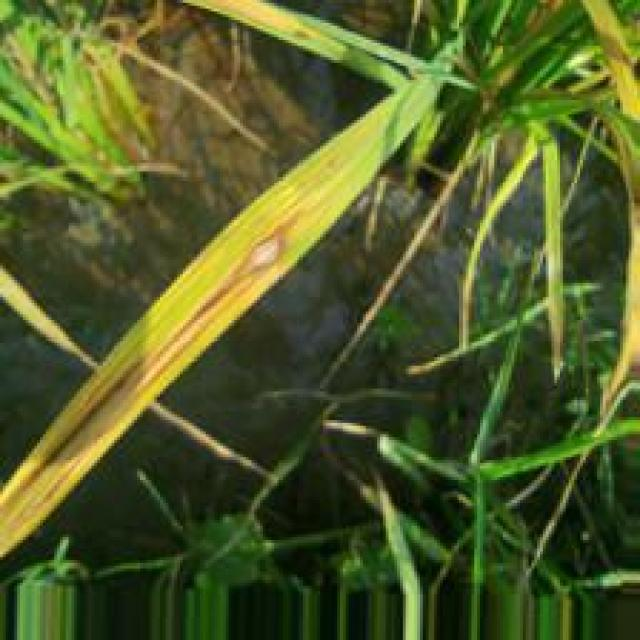Rice Tungro: (68, 222, 301, 455)
